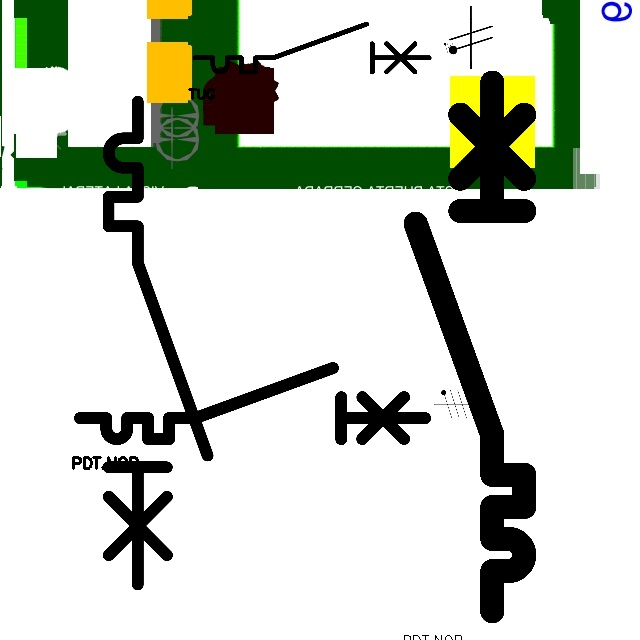interruptor_termomagnetico: (402, 68, 538, 624), (96, 89, 220, 597), (71, 359, 434, 448), (189, 18, 435, 78)
